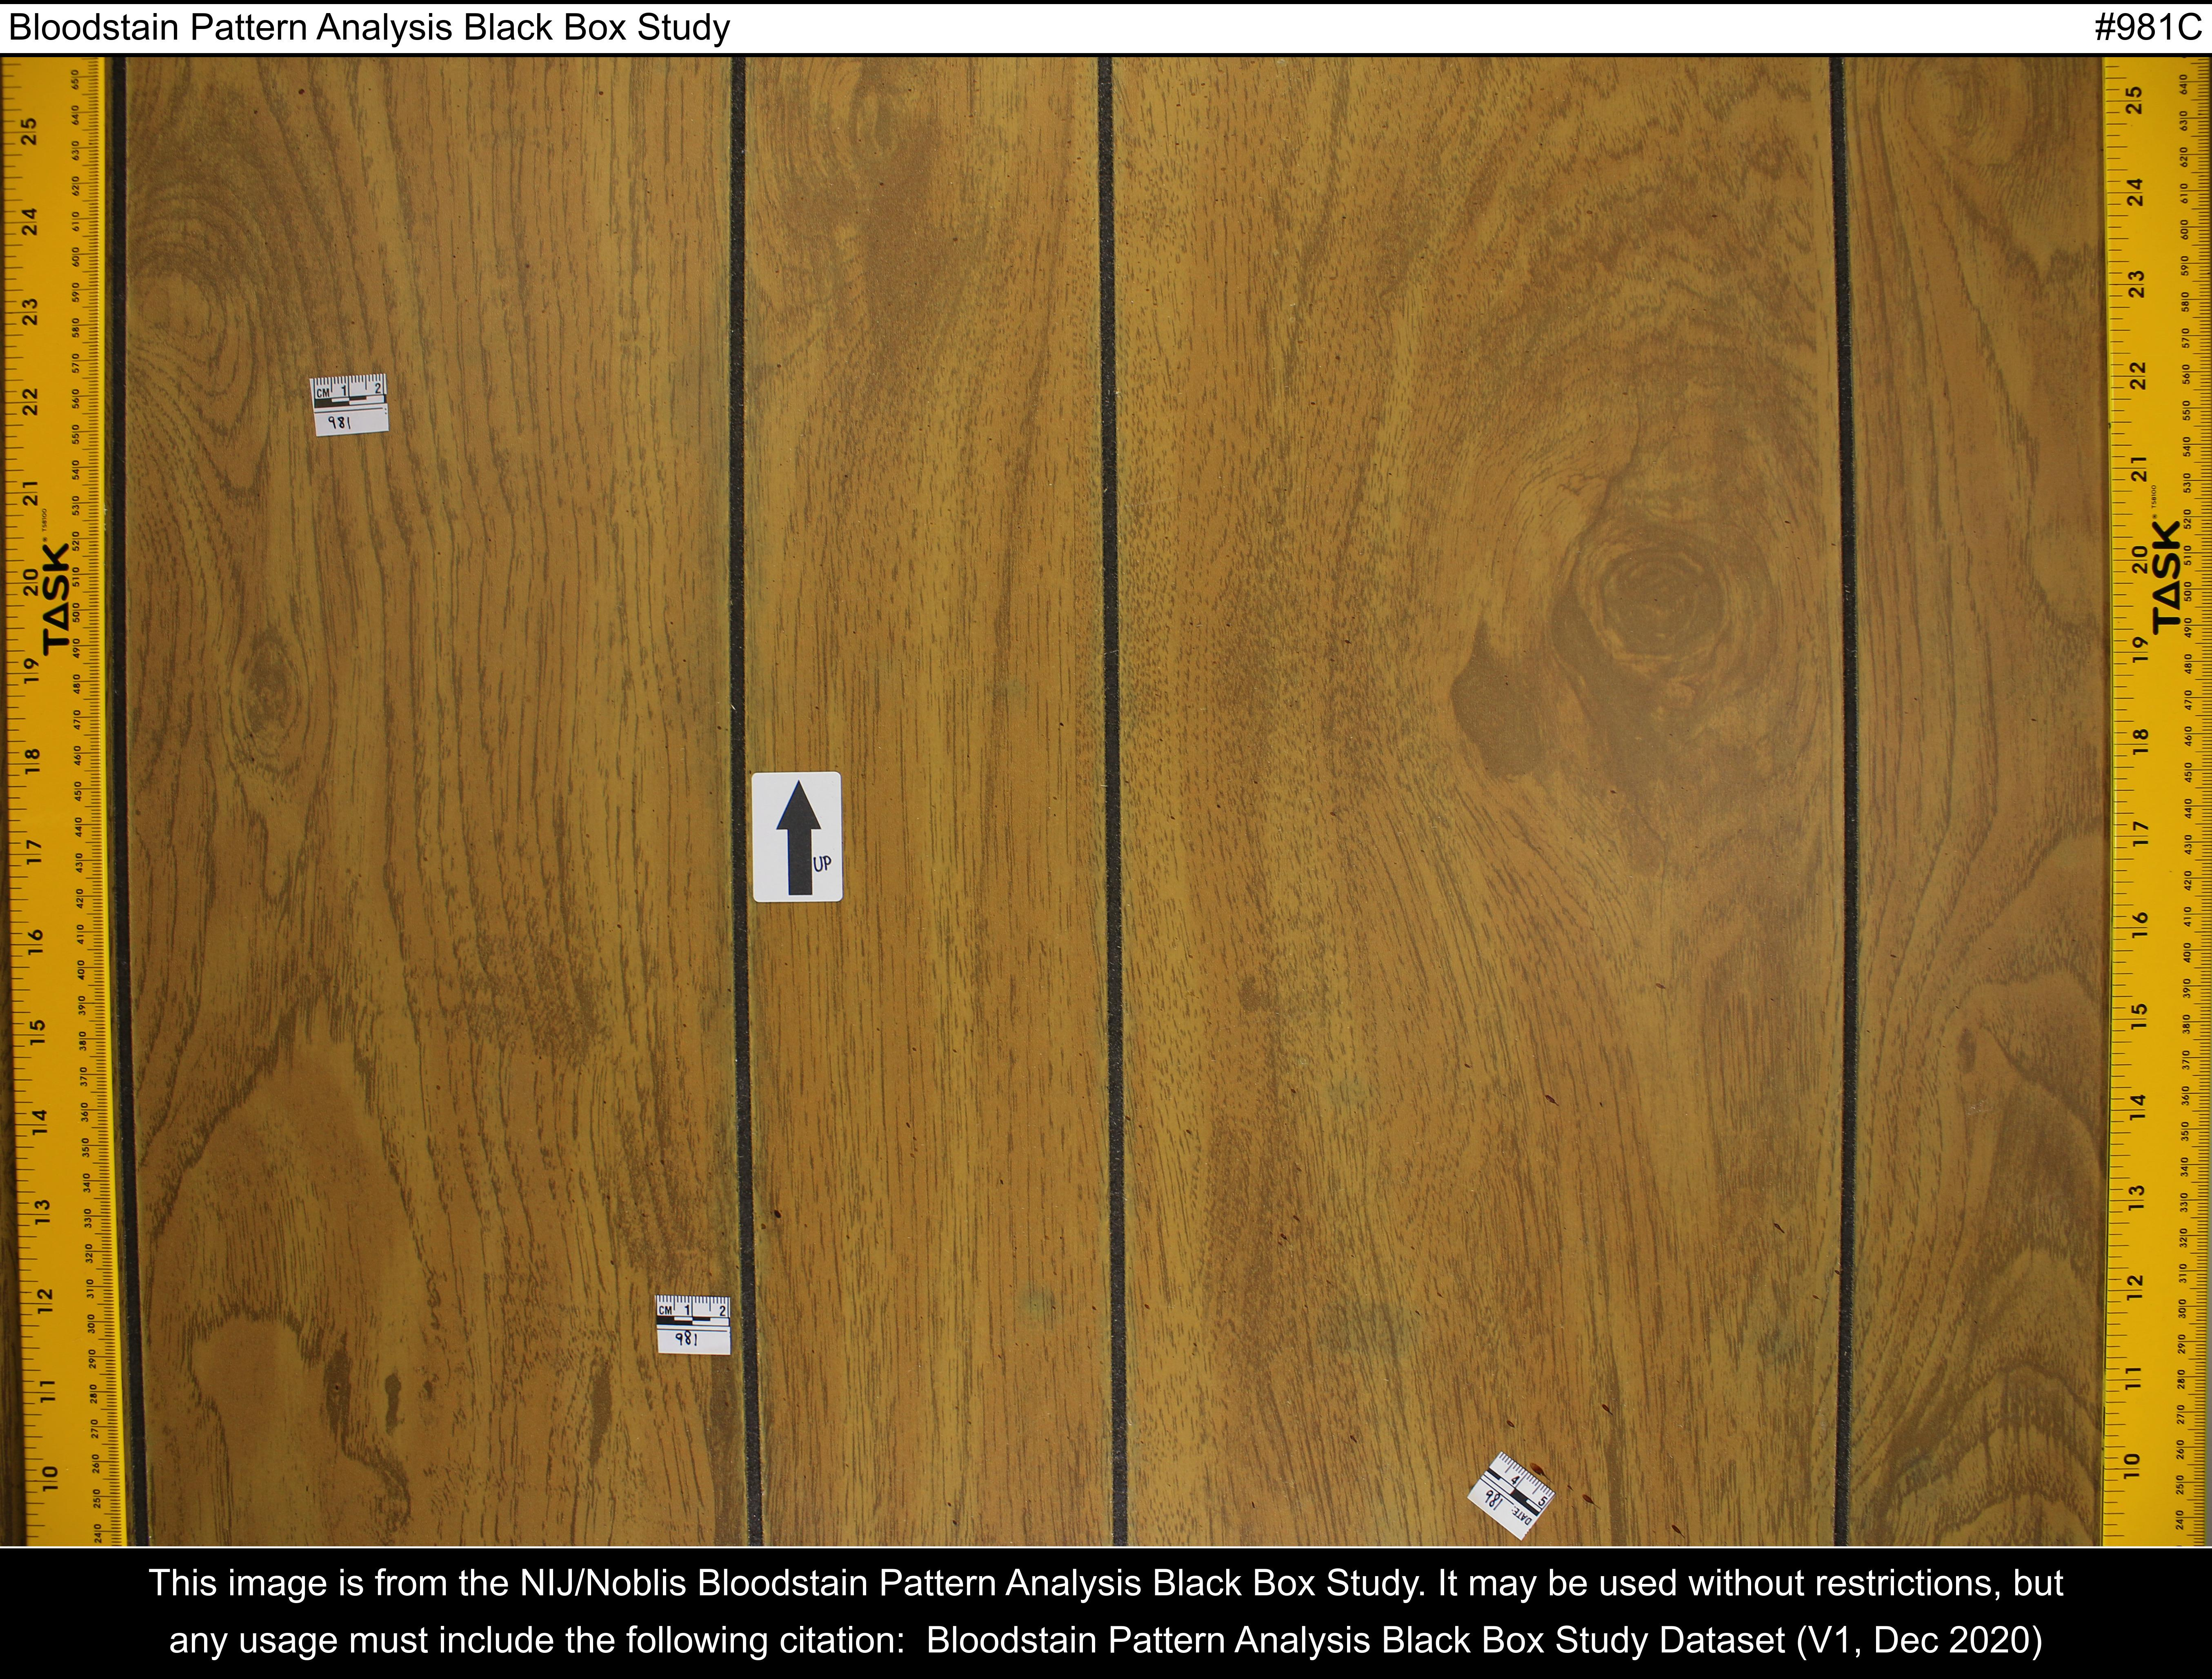Impact: (439, 1014, 1762, 1540)
